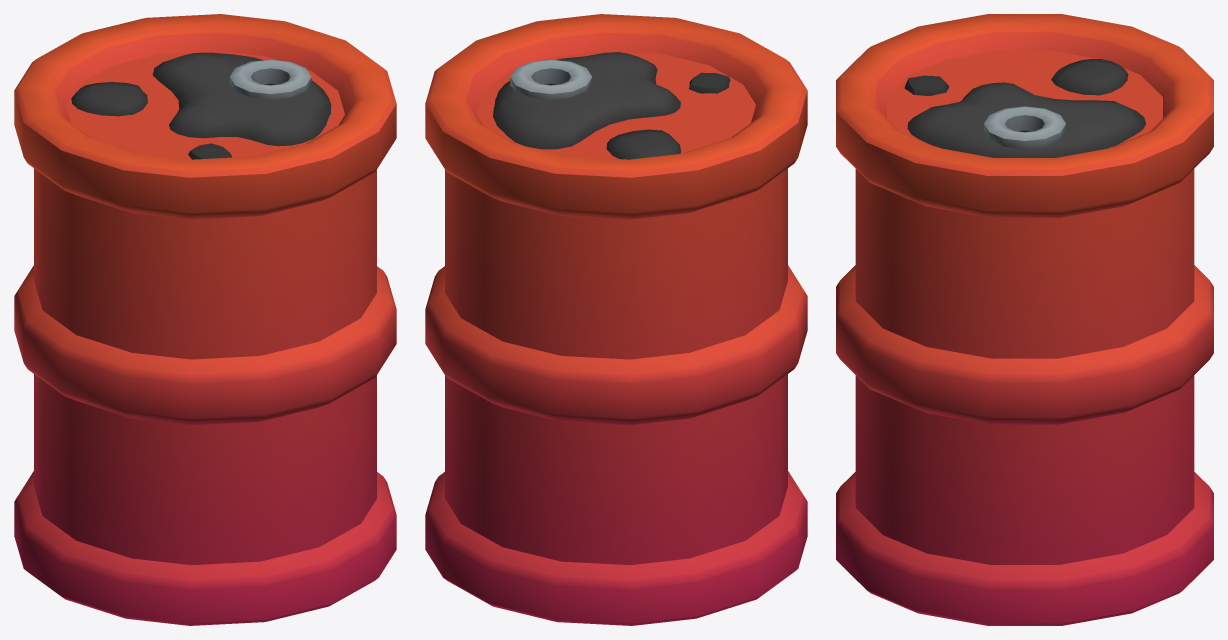
The model's file is Fuel_A_Barrel_Dirty.glb.
3 renders of one model, left to right at view 1: azimuth 30°, elevation 25°; view 2: azimuth 150°, elevation 25°; view 3: azimuth 270°, elevation 25°, orthographic.
Visible parts, largest first — view 1: Fuel_A_Barrel_Dirty; view 2: Fuel_A_Barrel_Dirty; view 3: Fuel_A_Barrel_Dirty.
Boxes of the visible parts, x1,y1,x2,y2 form: Fuel_A_Barrel_Dirty: (14,14,396,625); Fuel_A_Barrel_Dirty: (425,14,807,625); Fuel_A_Barrel_Dirty: (836,14,1213,625).
Size of the model in its own units: 0.75 by 1.01 by 0.75.
Materials: 1 (1 with a texture image).
